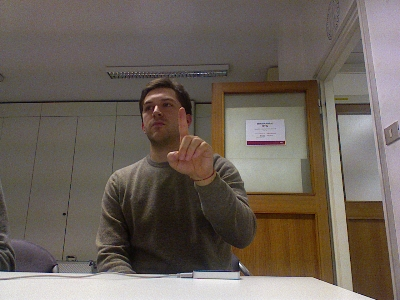食指: (165, 105, 215, 181)
